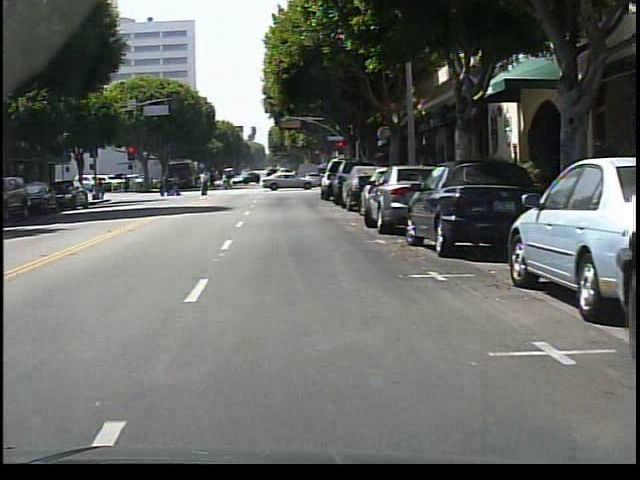person: (193, 169, 213, 199)
